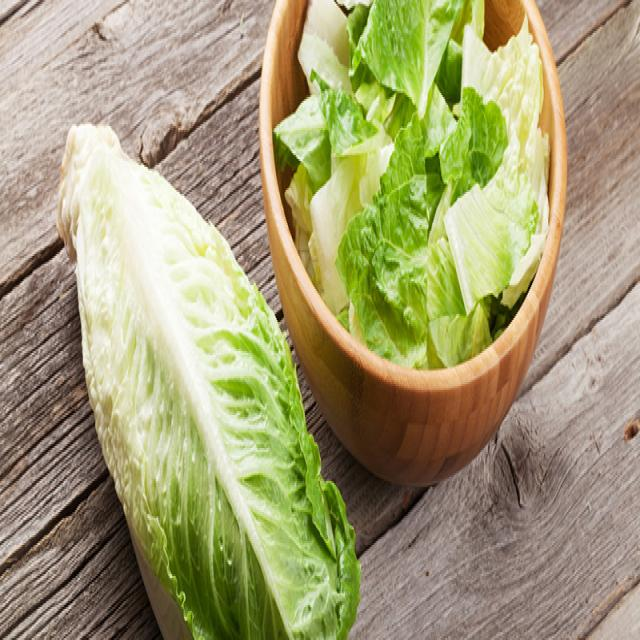lettuce: (303, 0, 510, 311), (143, 367, 335, 640)
